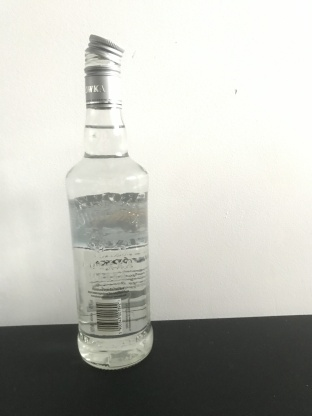nakretka: (82, 32, 125, 110)
